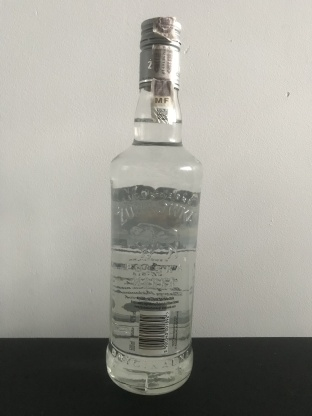nakretka: (137, 14, 183, 91)
